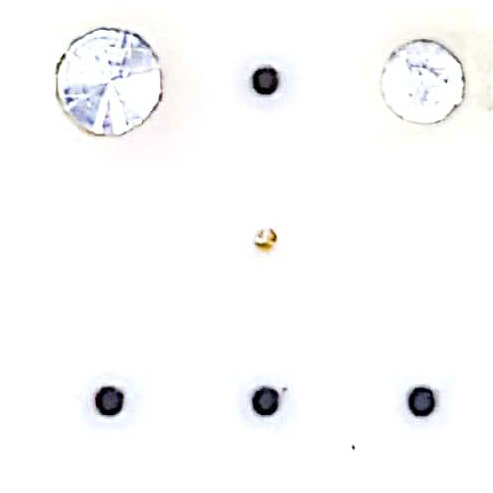abnormal: (26, 12, 204, 162), (357, 16, 493, 146)
cancer: (79, 360, 147, 448), (234, 357, 303, 441), (237, 51, 311, 115), (388, 372, 457, 435)
normal: (246, 221, 300, 269)
